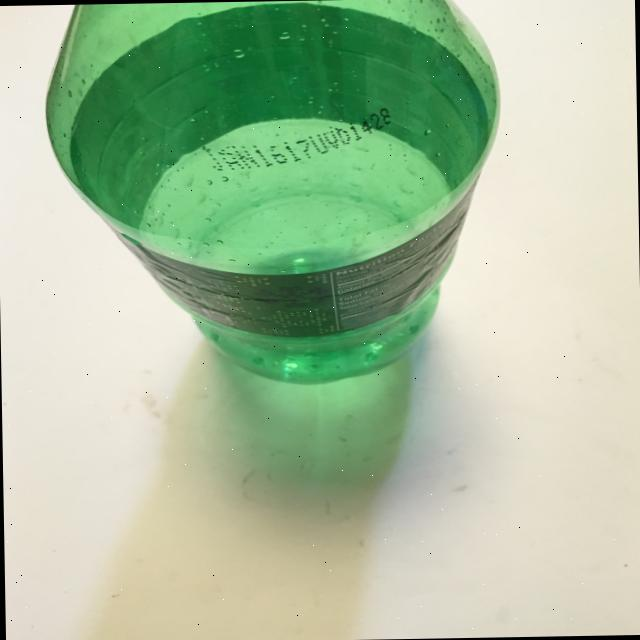plastic: (42, 0, 505, 388)
